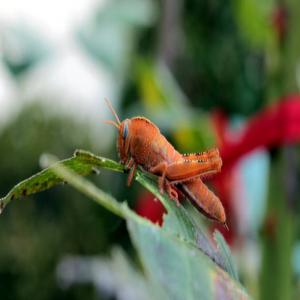locust: (96, 80, 231, 233)
